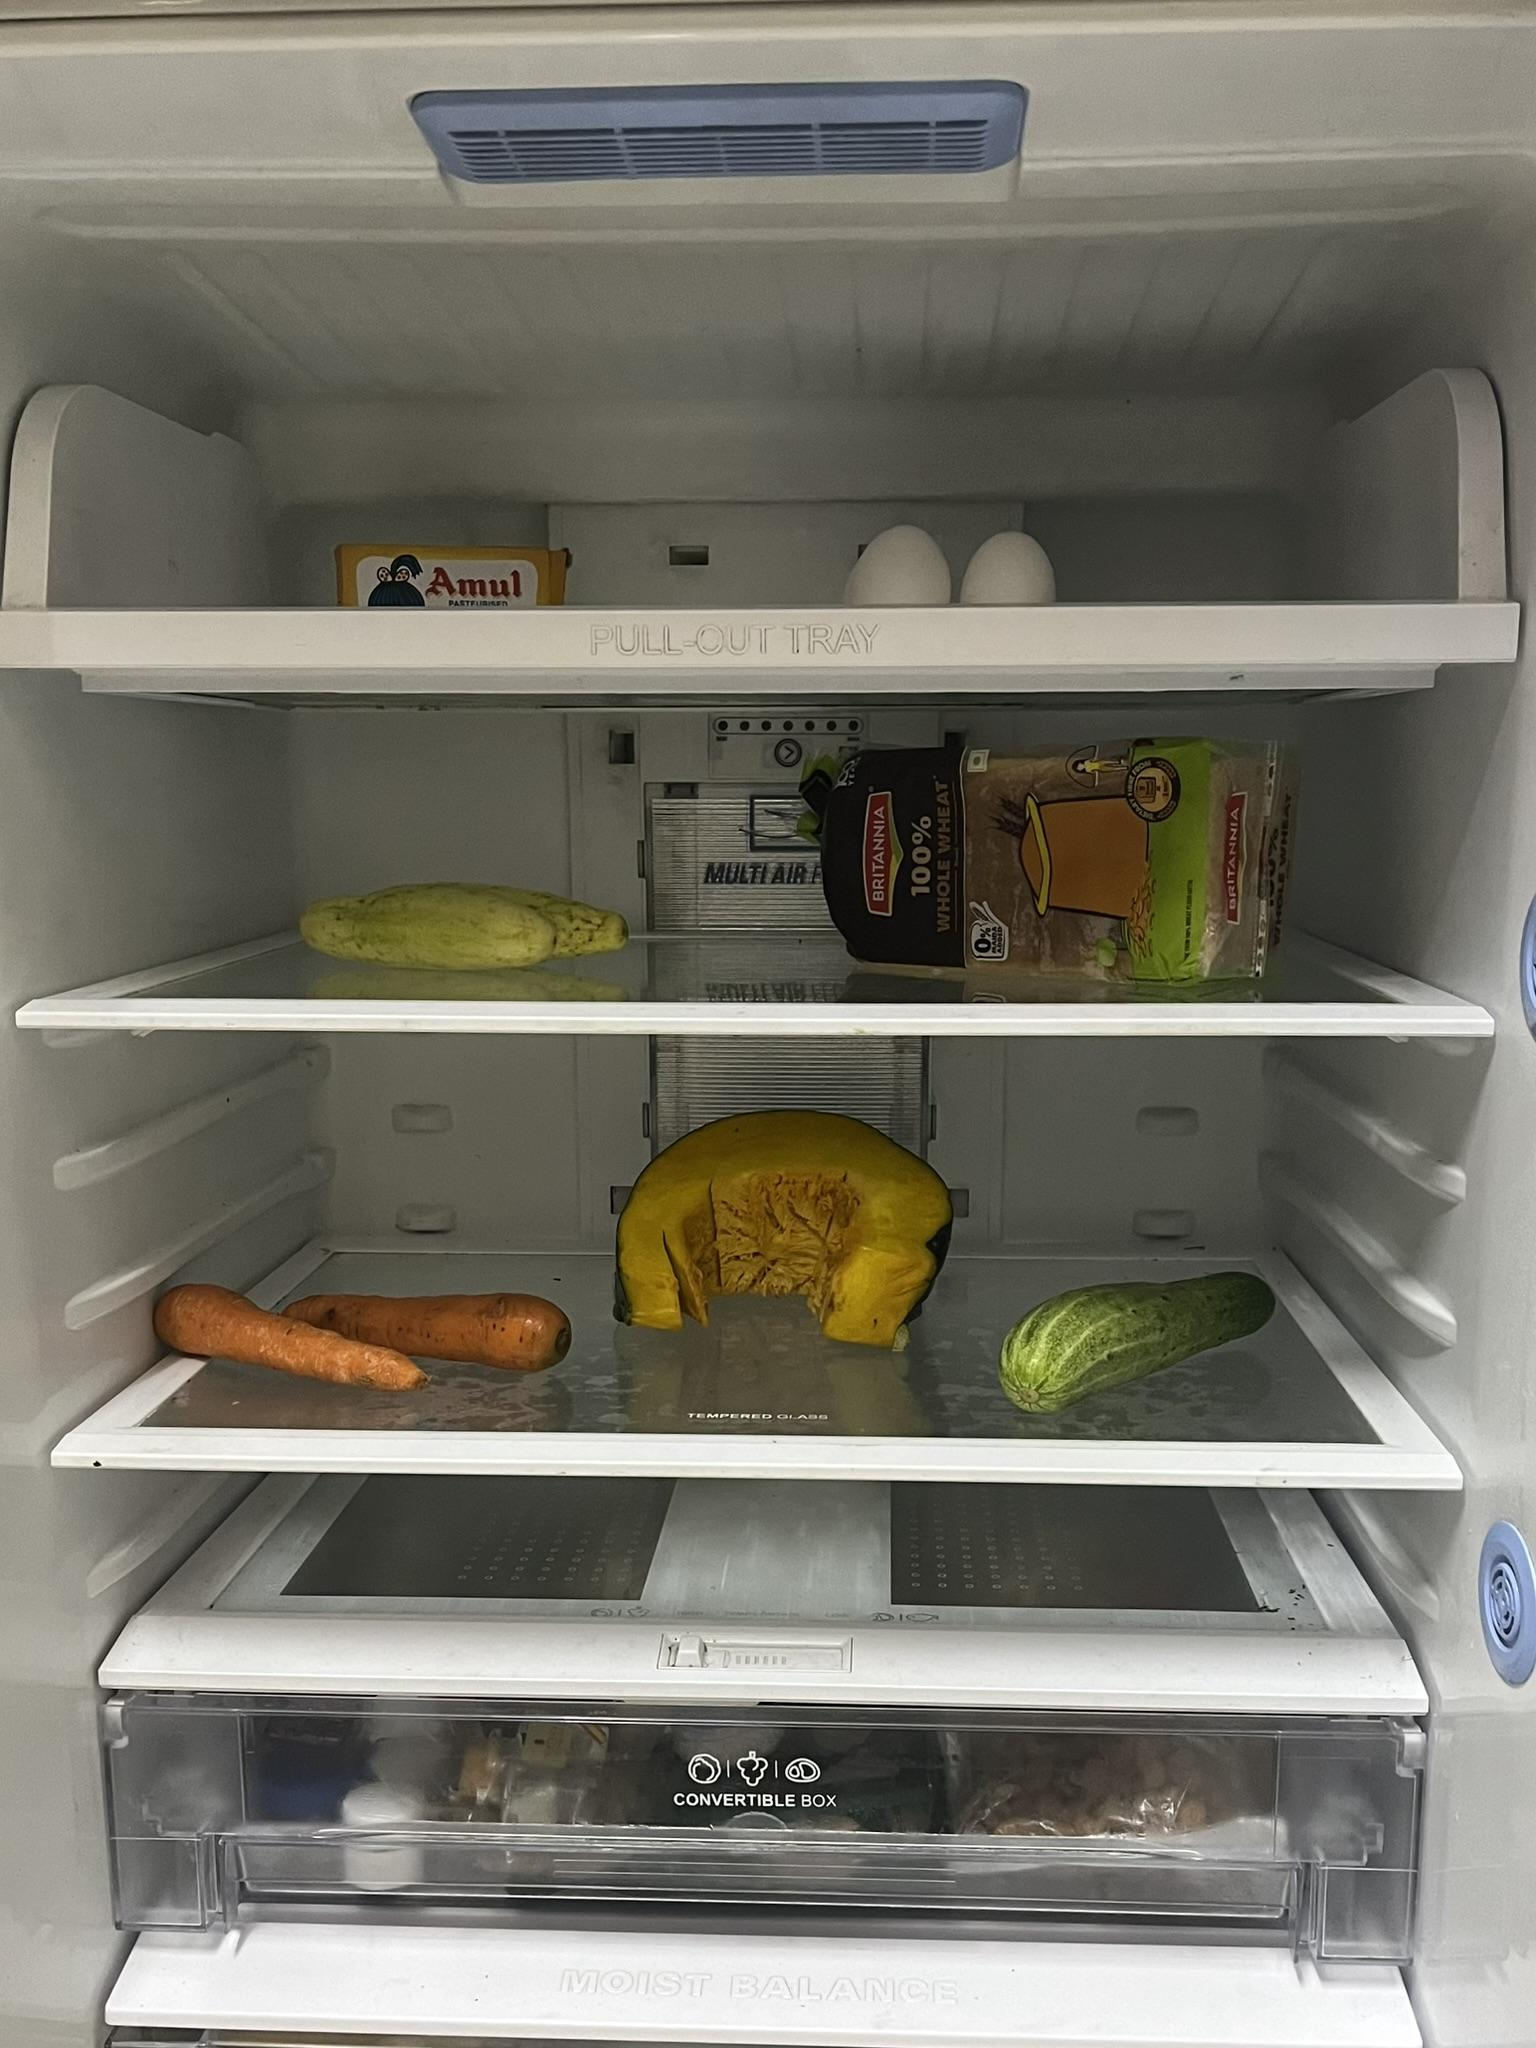bread: (803, 731, 1300, 980), (957, 531, 1057, 606)
butter: (347, 537, 557, 606)
carrots: (153, 1290, 390, 1393), (263, 1297, 563, 1366)
cucumber: (1004, 1266, 1273, 1424), (307, 884, 629, 971)
egg: (850, 519, 960, 606)
pumpkin: (616, 1103, 960, 1343)
